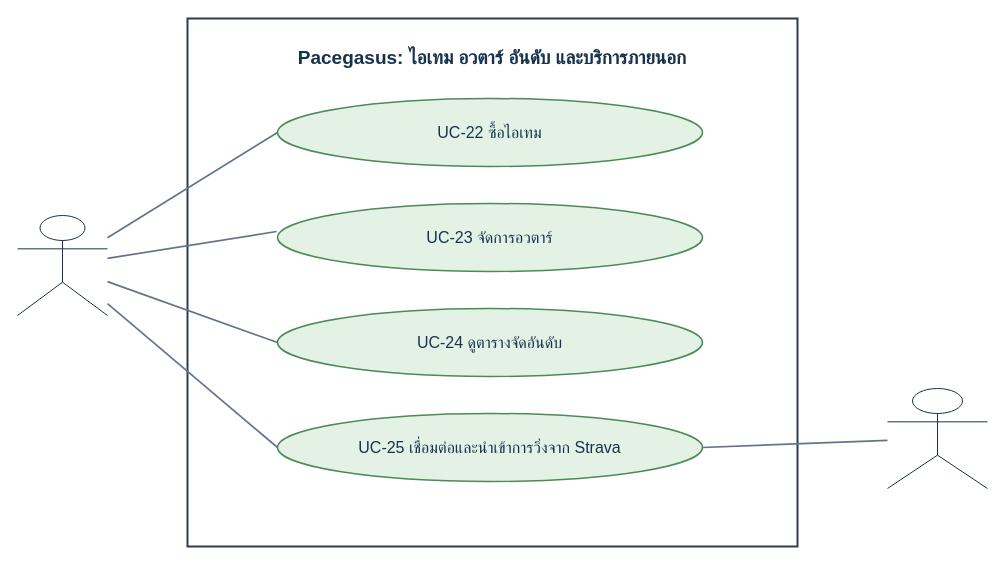
Image size: 1005x564. Some labels were removed from this diagram. The centre of each missing label's shape, as x and y in pixels:
"Strava" belongs at point 937,438.
"นักวิ่ง" belongs at point 62,265.
